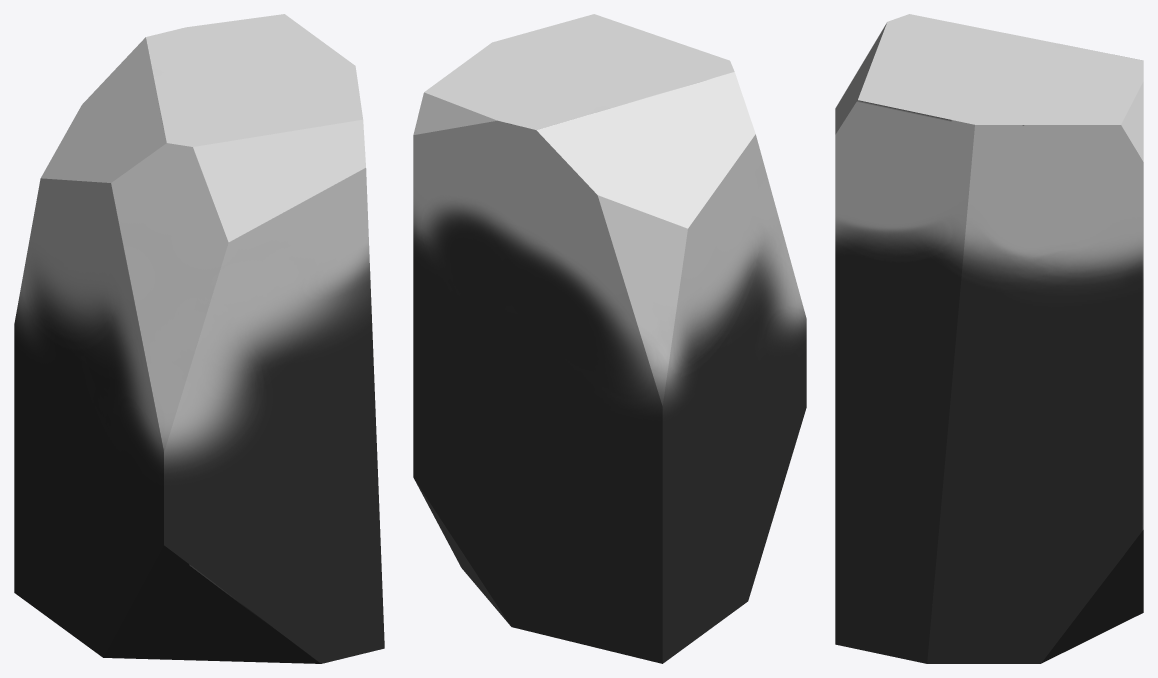
The model's file is TallRock1.fbx.
The picture shows the model from 3 angles, left to right: view 1: azimuth 30°, elevation 25°; view 2: azimuth 150°, elevation 25°; view 3: azimuth 270°, elevation 25°; orthographic projection. The views are drawn at different scales.
Parts seen in each view (by area): view 1: TallRock1; view 2: TallRock1; view 3: TallRock1.
Part boxes in pixels (bbox=[...]): TallRock1: bbox=[14, 14, 384, 663]; TallRock1: bbox=[413, 14, 806, 663]; TallRock1: bbox=[835, 14, 1143, 663].
Bounding box in the file's own units: 397 × 765 × 397.
1 material, 1 textured.
